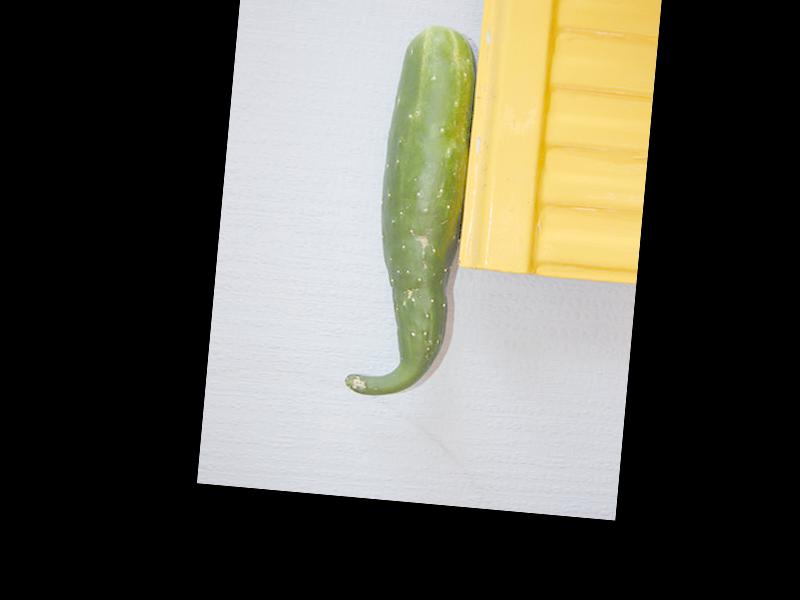Cucumber: (343, 22, 480, 403)
